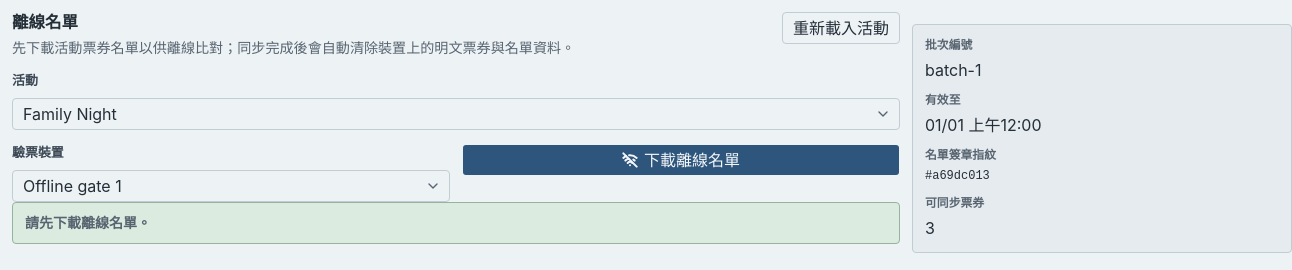
OfflinePackageStep — restore from IDB › shows the offline notice when reload fails with a restored package
What coordinates should you click on to do the following:
click the button "重新載入活動"
I would click on:
 (841, 28)
Its box is [782,12,900,44].
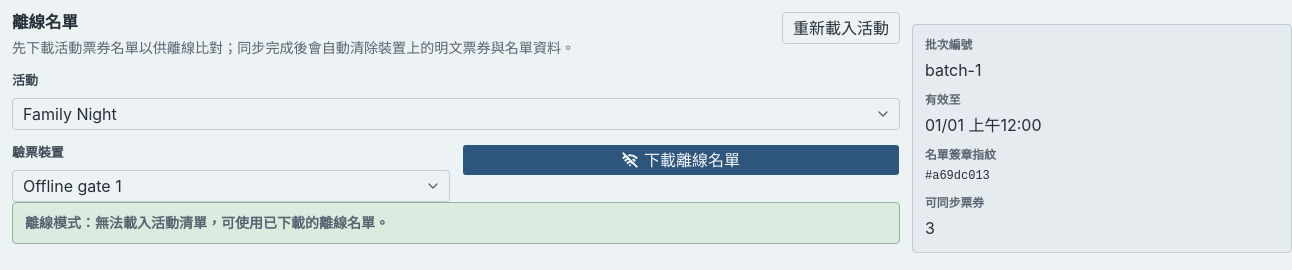
Result: the text "離線模式：無法載入活動清單，可使用已下載的離線名單。" is shown at [25,214,389,231]
